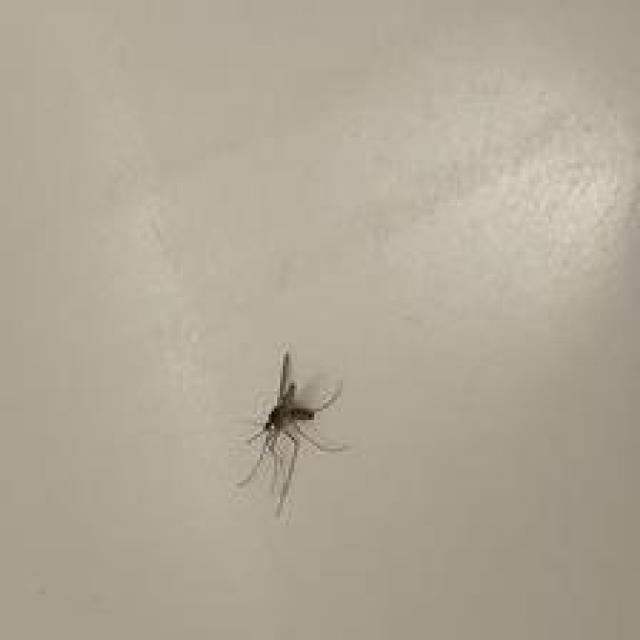Culex: (233, 350, 350, 519)
